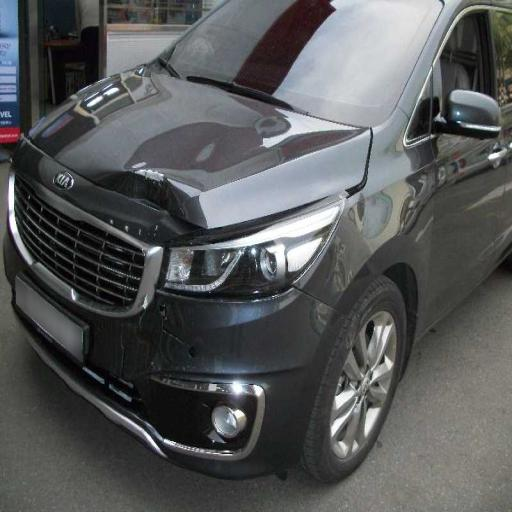dent: (79, 110, 279, 322)
scratch: (126, 322, 219, 391)
